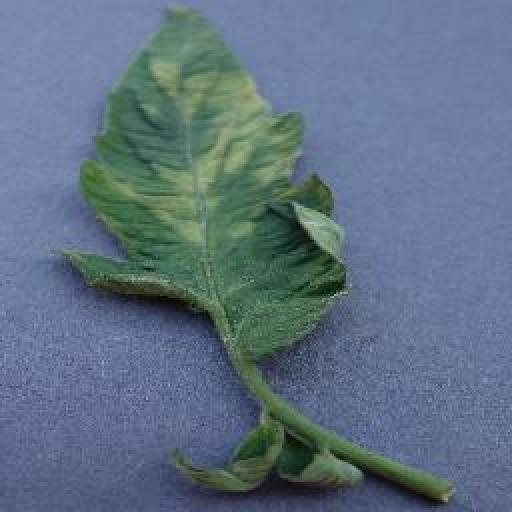Leaf Mold: (66, 7, 348, 361)
